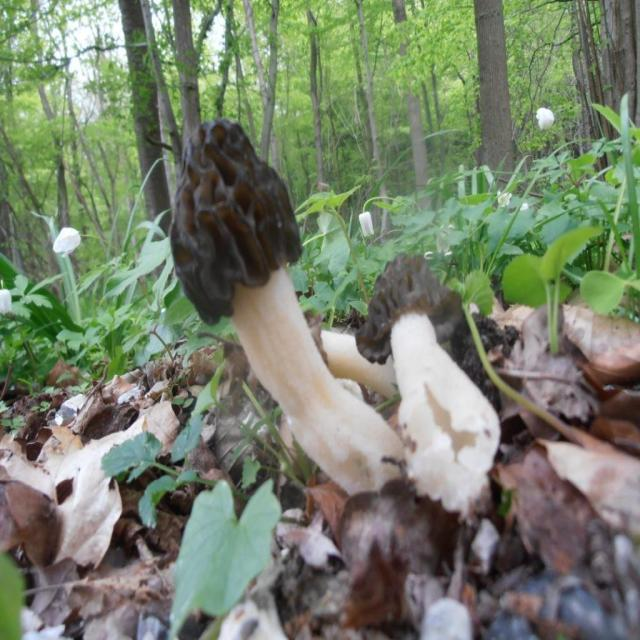Morchella esculenta: (173, 117, 401, 492), (359, 252, 501, 512)
